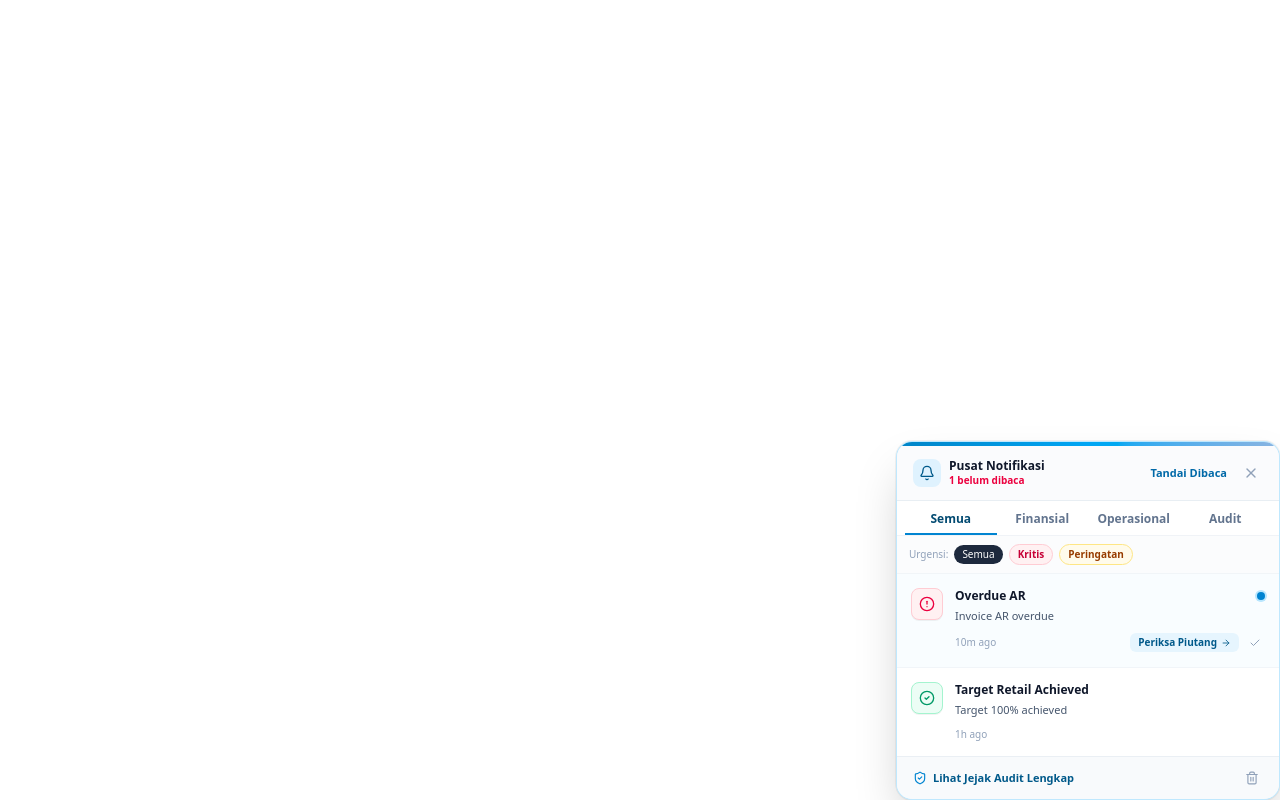
it: Smart Notification Center & Audit Trail Tests › NotificationPopover Component › filters notifications by severity button
(page scrolled)
Click the button with test id "severity-filter-danger" at (1031, 554), box [1009,544,1053,565]
(page scrolled)
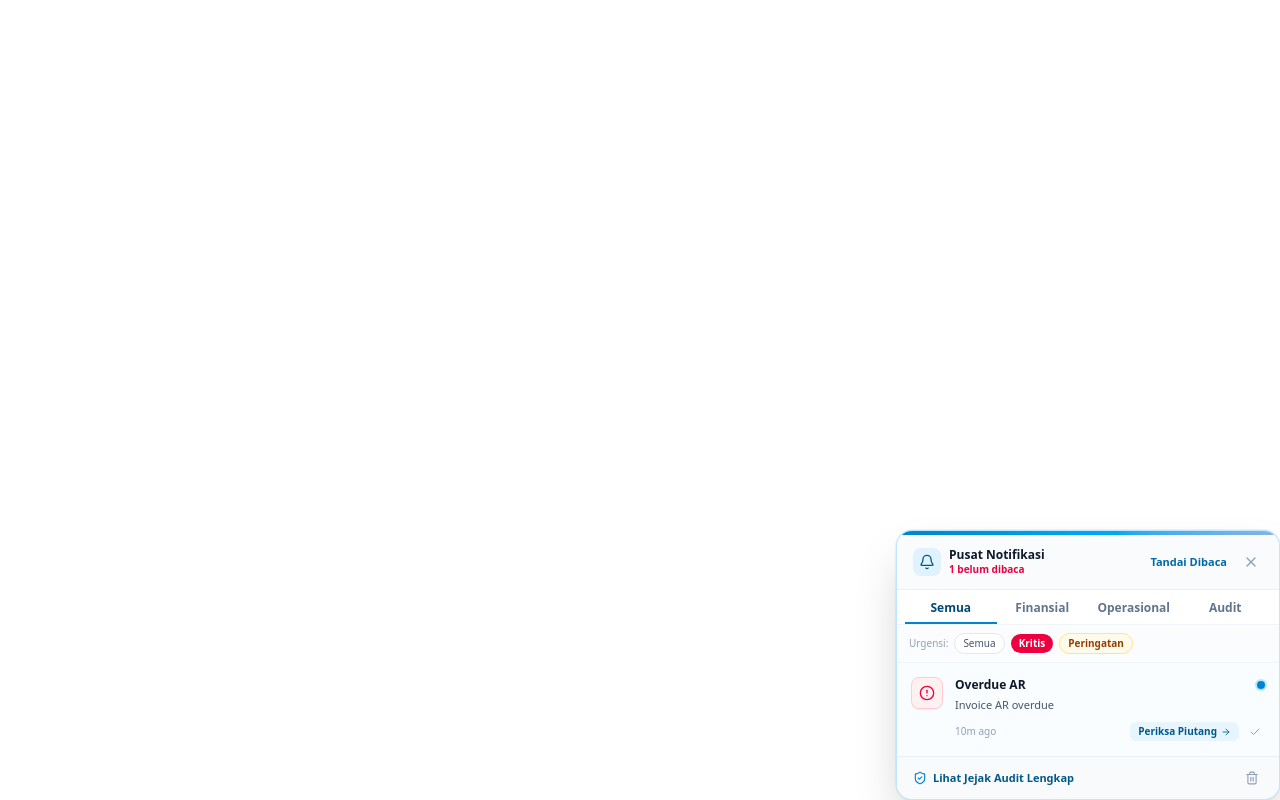
Expected: the text "Overdue AR" is shown, [955,677,1026,692]
Result: the text "Target Retail Achieved" is gone
